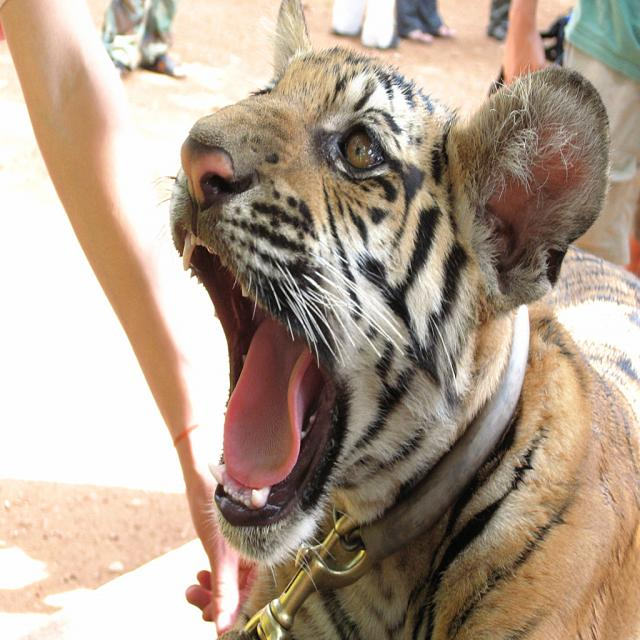Tiger: (152, 0, 640, 639)
